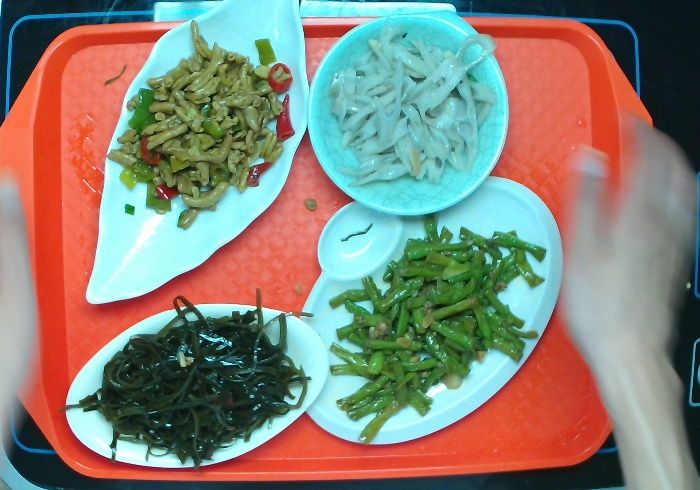RJxy-Bai_Se_Tuo_Yuan: (62, 299, 332, 472)
RJxy-Shu_Ye_Pan: (81, 1, 316, 311)
RJxy-Xiao_Jiao_Yuan_Wan: (306, 8, 518, 223)
RJxy-Zhan_Liao_Pan: (293, 172, 567, 452)
